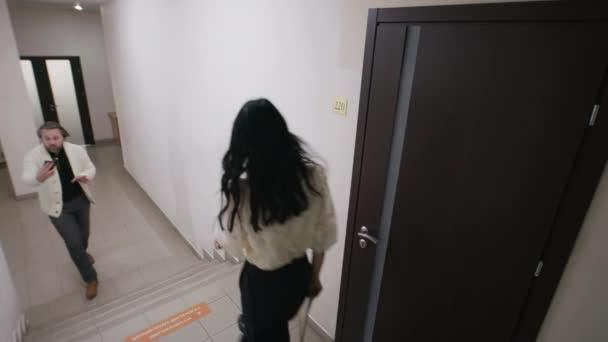jacket: (20, 140, 99, 220)
long sleeve shirt: (212, 161, 338, 273)
trousers: (234, 255, 314, 342), (44, 198, 97, 282)
